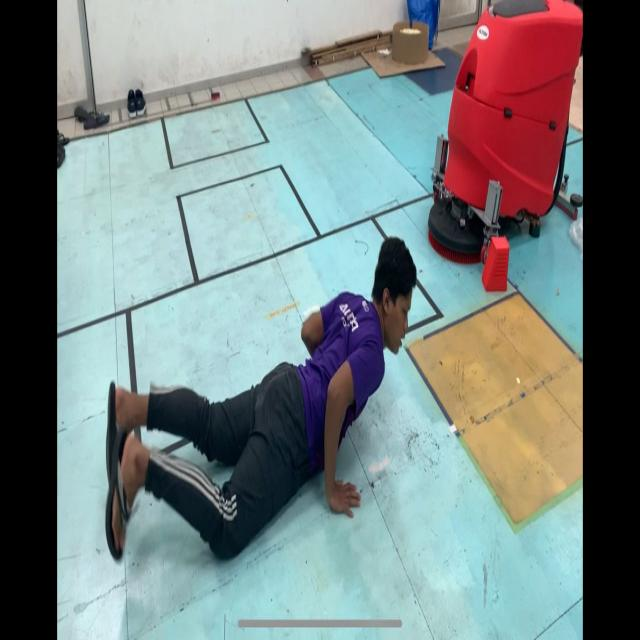Fall-Detected: (102, 231, 422, 585)
